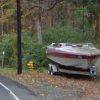Boat: (38, 37, 100, 81)
